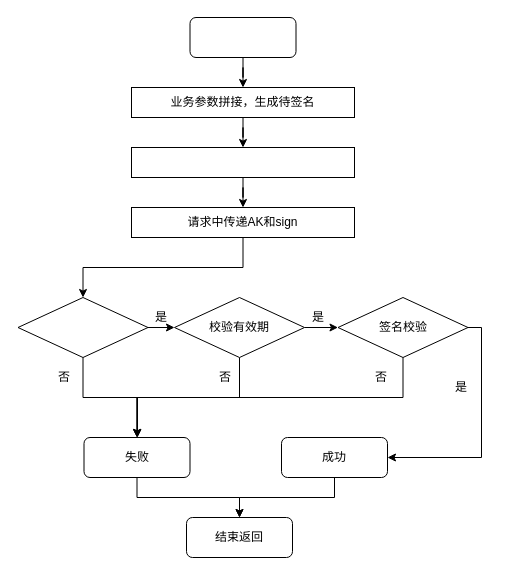
Some shapes in this 507 by 575 pixel diagram are drawn without their labels. Here are the shapes that lost their labels. From the top down, the centre of each, then its label:
At (242,37): "开始".
At (242,162): "拼接SK参数，使用MD5加密".
At (82,327): "AK是否有效".
